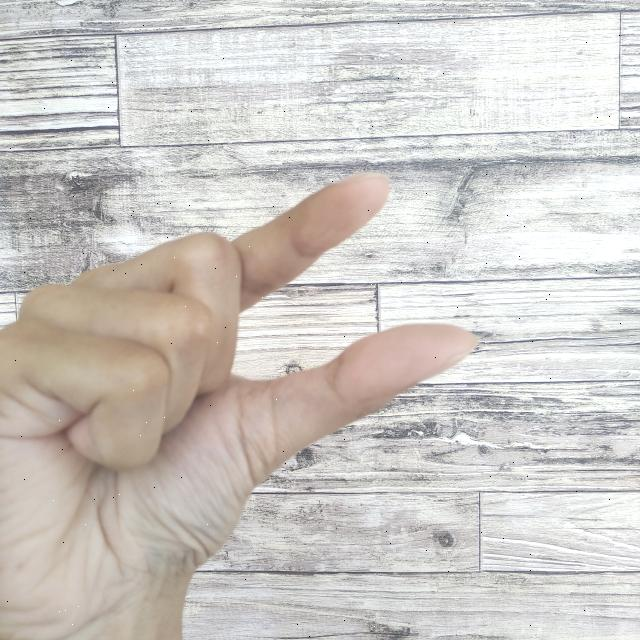G: (1, 167, 482, 640)
